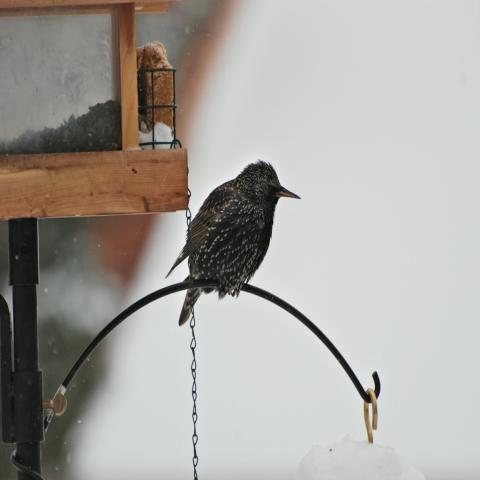bird: (164, 156, 301, 327)
